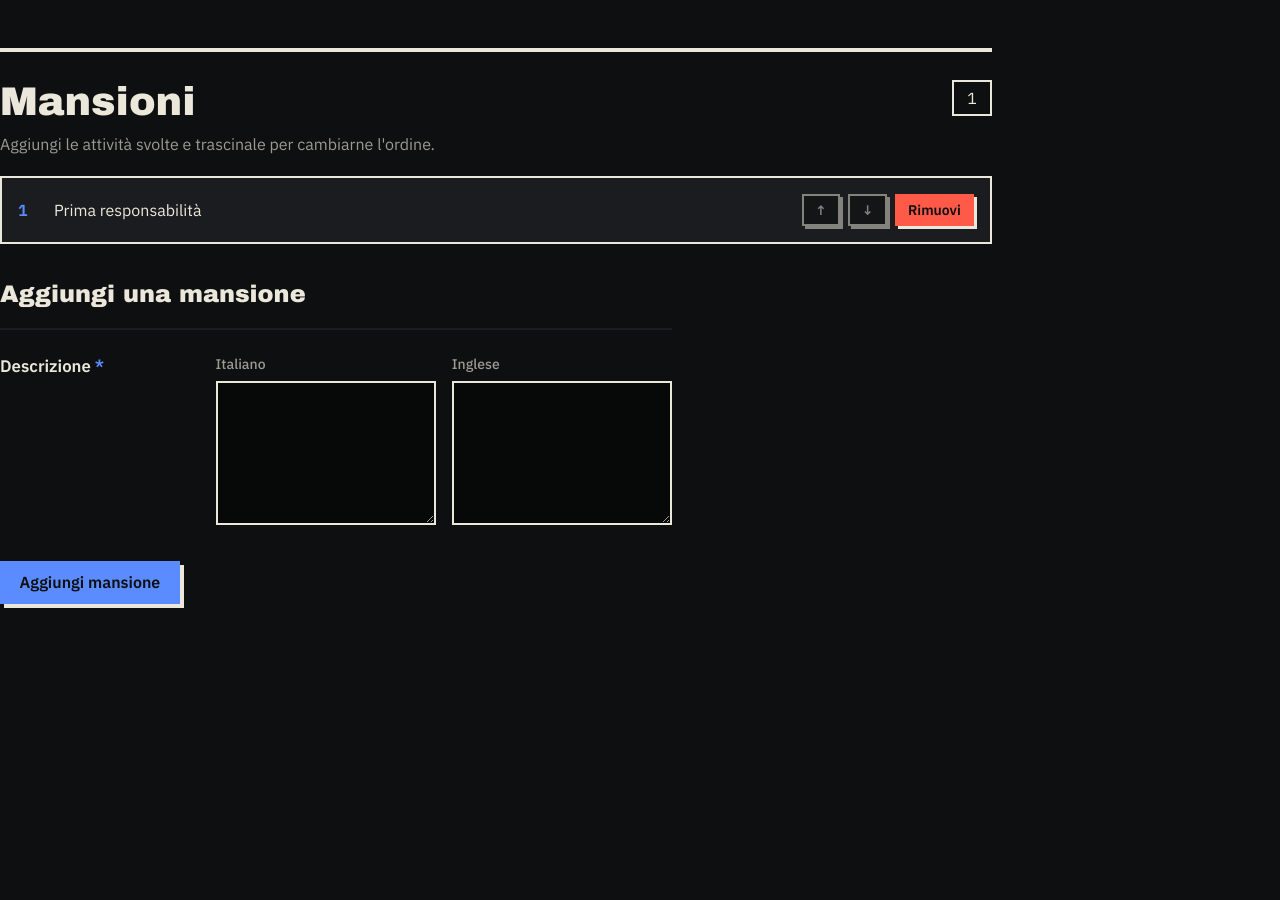
Test case: WorkResponsibilities › deletes a responsibility only after confirmation
Check: the text "Prima responsabilità" is shown, box [54,198,202,222]
Step 1. Click the button "Rimuovi" → (934, 210), box [895,194,974,226]
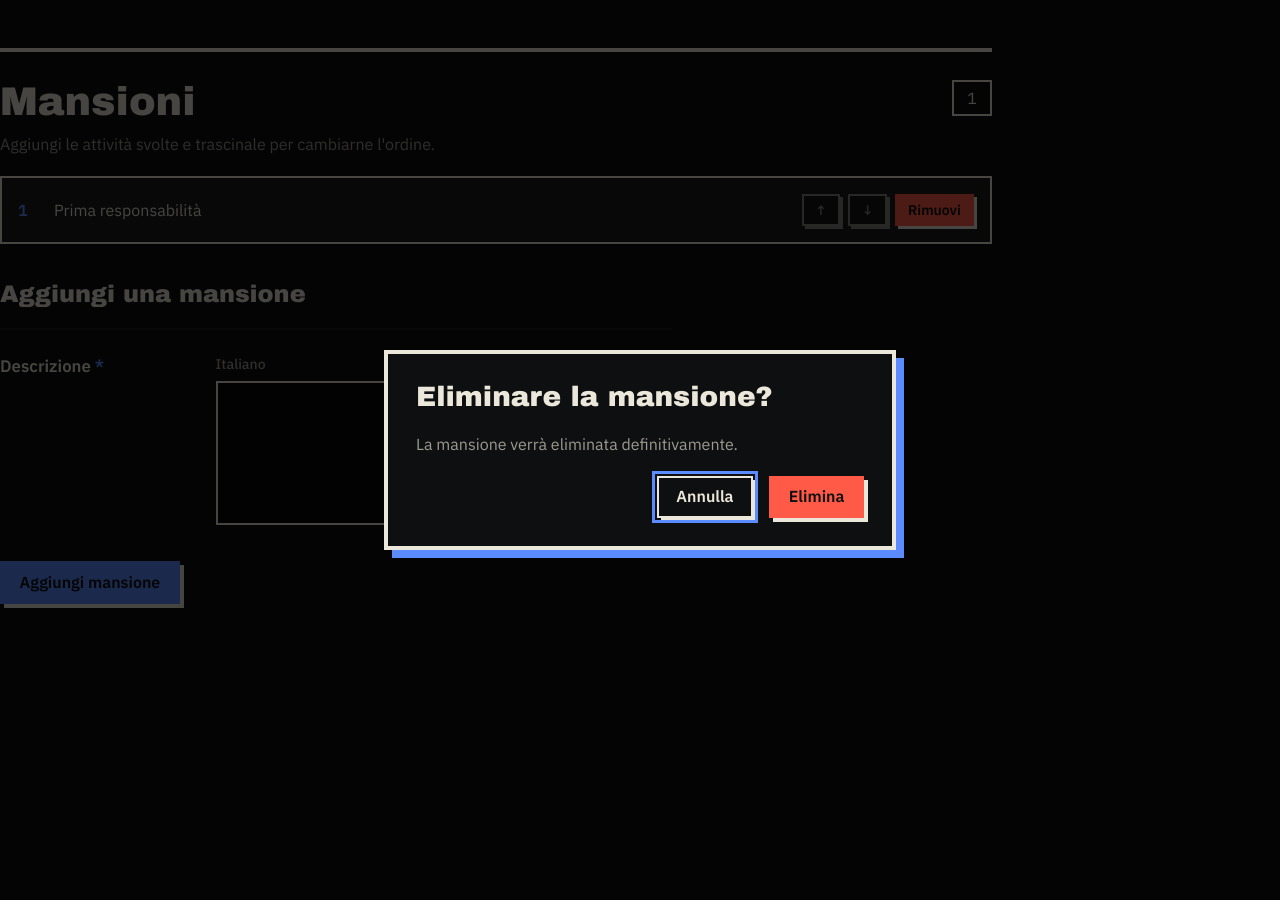
Check: the text "La mansione verrà eliminata definitivamente." is shown, box [416,434,738,454]
Step 2. Click the button "Elimina" → (817, 497), box [769,476,864,518]
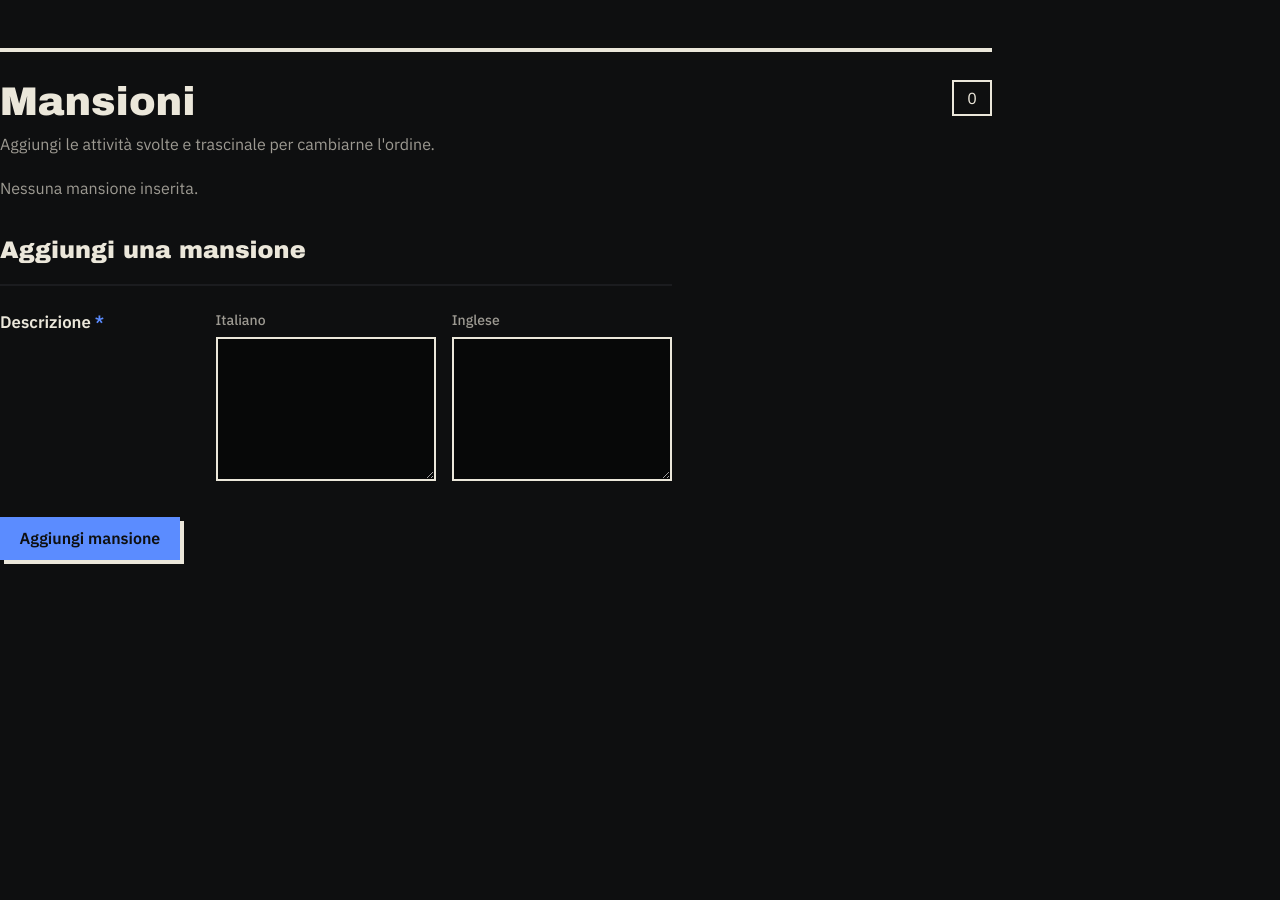
Check: the text "Prima responsabilità" is gone
